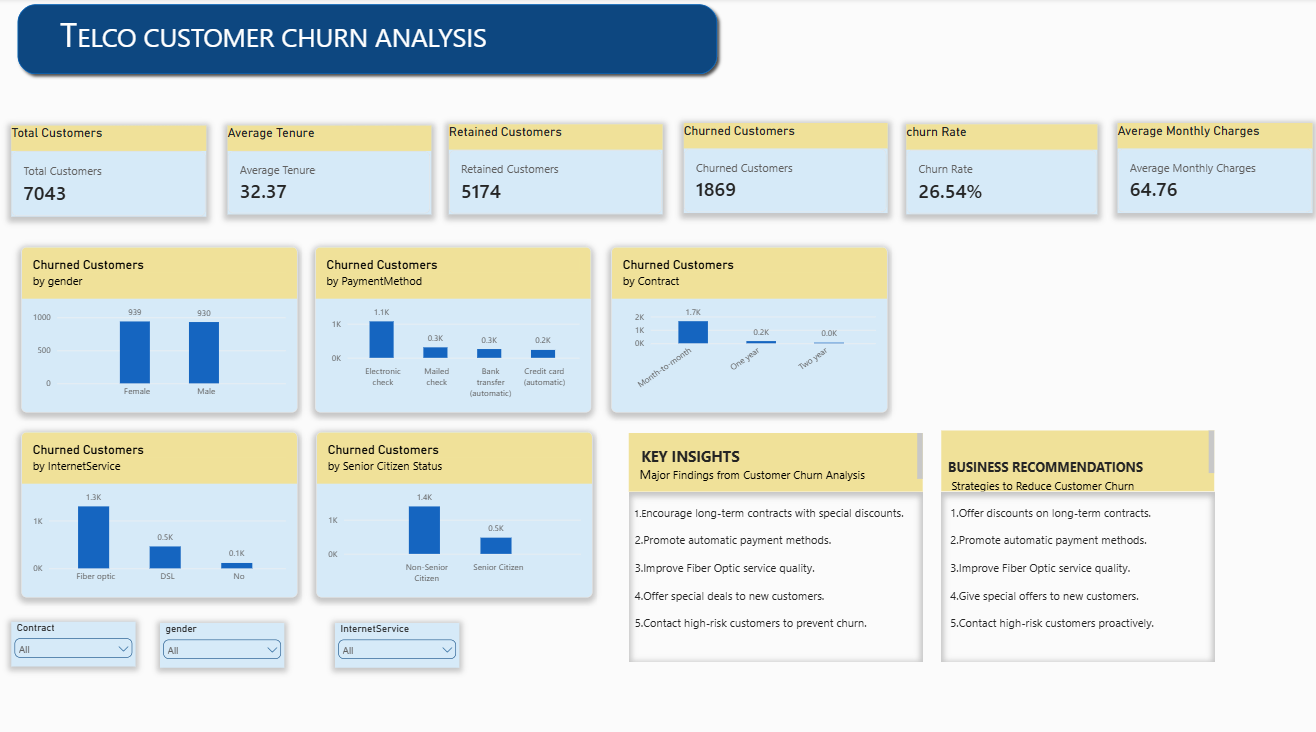

What the dashboard file says about the page in this screenshot:
{"tool":"powerbi","page":{"name":"Page 1","canvas":[1920,1080],"ordinal":0},"visuals":[{"type":"shape","box":[16.8,0,1031,119.3],"z":0},{"type":"cardVisual","title":"churn Rate","fields":{"Data":["customer_churn_analysis customer_churn.Churn Rate"]},"box":[1312,182.8,276.9,130.3],"z":1000},{"type":"clusteredColumnChart","fields":{"Category":["customer_churn_analysis customer_churn.Contract"],"Y":["customer_churn_analysis customer_churn.Churned Customers"]},"box":[884.9,360.1,400,240],"z":2000},{"type":"clusteredColumnChart","fields":{"Category":["customer_churn_analysis customer_churn.InternetService"],"Y":["customer_churn_analysis customer_churn.Churned Customers"]},"box":[30.8,628,400,240],"z":3000},{"type":"clusteredColumnChart","fields":{"Category":["customer_churn_analysis customer_churn.PaymentMethod"],"Y":["customer_churn_analysis customer_churn.Churned Customers"]},"box":[456,360.1,400,240],"z":4000},{"type":"clusteredColumnChart","fields":{"Category":["customer_churn_analysis customer_churn.gender"],"Y":["customer_churn_analysis customer_churn.Churned Customers"]},"box":[30.8,360.1,400,240],"z":5000},{"type":"clusteredColumnChart","title":"Churned Customers ","fields":{"Category":["customer_churn_analysis customer_churn.SeniorStatus"],"Y":["customer_churn_analysis customer_churn.Churned Customers"]},"box":[457.8,628,400,240],"z":6000},{"type":"textbox","box":[0,237.1,16.3,18.1],"z":7000},{"type":"textbox","box":[87.6,0,1832.7,236.8],"z":8000},{"type":"cardVisual","title":"Churned Customers","fields":{"Data":["customer_churn_analysis customer_churn.Churned Customers"]},"box":[989.9,181,295,130.3],"z":9000},{"type":"cardVisual","title":"Retained Customers","fields":{"Data":["customer_churn_analysis customer_churn.Retained Customers"]},"box":[649.7,182.8,309.5,130.3],"z":10000},{"type":"cardVisual","title":"Average Monthly Charges","fields":{"Data":["customer_churn_analysis customer_churn.Average Monthly Charges"]},"box":[1617.8,181,282.3,130.3],"z":11000},{"type":"cardVisual","title":"Average Tenure","fields":{"Data":["customer_churn_analysis customer_churn.Average Tenure"]},"box":[329.4,184.6,295,128.5],"z":12000},{"type":"cardVisual","title":"Total Customers","fields":{"Data":["customer_churn_analysis customer_churn.Total Customers"]},"box":[16.3,184.6,282.3,132.1],"z":13000},{"type":"textbox","box":[910.3,629.8,425.3,85.1],"z":14000},{"type":"textbox","box":[1362.9,626.5,395.3,87.6],"z":16000},{"type":"textbox","box":[910.3,714.8,425.3,246.1],"z":16002},{"type":"textbox","box":[1362.7,714.8,396,246],"z":16003},{"type":"slicer","fields":{"Values":["customer_churn_analysis customer_churn.Contract"]},"box":[16.6,903.9,180,65],"z":16004},{"type":"slicer","fields":{"Values":["customer_churn_analysis customer_churn.gender"]},"box":[231,904,180,65],"z":16005},{"type":"slicer","fields":{"Values":["customer_churn_analysis customer_churn.InternetService"]},"box":[484.8,904.3,180,65],"z":16006}]}

Visuals, with their boxes in screenshot pixels (x1, y1, x2, y2), scaled from the page's 1920x1080 canvas onto the 1316x732 screenshot:
shape: (12,0,718,81)
"churn Rate" cardVisual: (899,124,1089,212)
clusteredColumnChart - customer_churn_analysis customer_churn.Contract x customer_churn_analysis customer_churn.Churned Customers: (607,244,881,407)
clusteredColumnChart - customer_churn_analysis customer_churn.InternetService x customer_churn_analysis customer_churn.Churned Customers: (21,426,295,588)
clusteredColumnChart - customer_churn_analysis customer_churn.PaymentMethod x customer_churn_analysis customer_churn.Churned Customers: (313,244,587,407)
clusteredColumnChart - customer_churn_analysis customer_churn.gender x customer_churn_analysis customer_churn.Churned Customers: (21,244,295,407)
"Churned Customers " clusteredColumnChart: (314,426,588,588)
textbox: (0,161,11,173)
textbox: (60,0,1315,160)
"Churned Customers" cardVisual: (678,123,881,211)
"Retained Customers" cardVisual: (445,124,657,212)
"Average Monthly Charges" cardVisual: (1109,123,1302,211)
"Average Tenure" cardVisual: (226,125,428,212)
"Total Customers" cardVisual: (11,125,205,215)
textbox: (624,427,915,485)
textbox: (934,425,1205,484)
textbox: (624,484,915,651)
textbox: (934,484,1205,651)
slicer - customer_churn_analysis customer_churn.Contract: (11,613,135,657)
slicer - customer_churn_analysis customer_churn.gender: (158,613,282,657)
slicer - customer_churn_analysis customer_churn.InternetService: (332,613,456,657)
